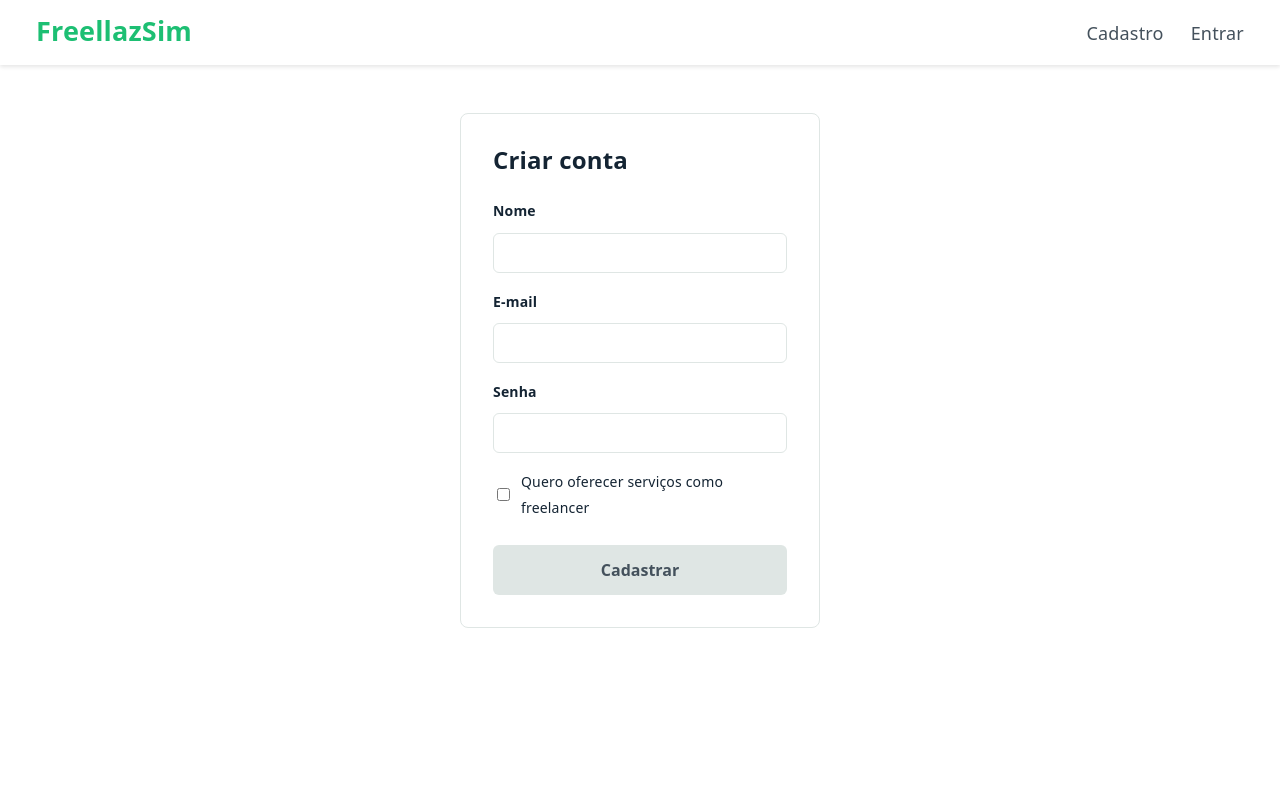
Cadastro › exibe mensagem de erro quando a senha é muito curta
In the password field labelled "Senha": (640, 433) x1=493 y1=413 x2=787 y2=453, type "123"
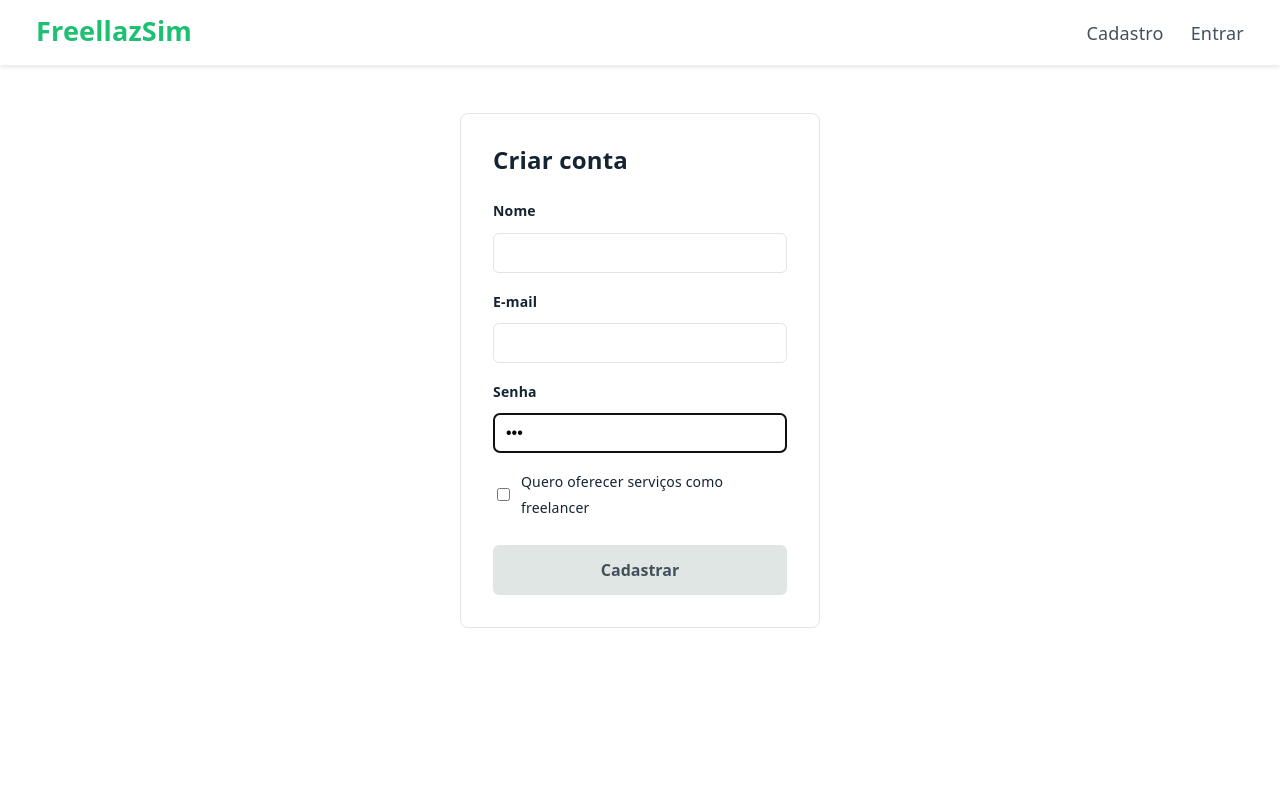
Press Tab
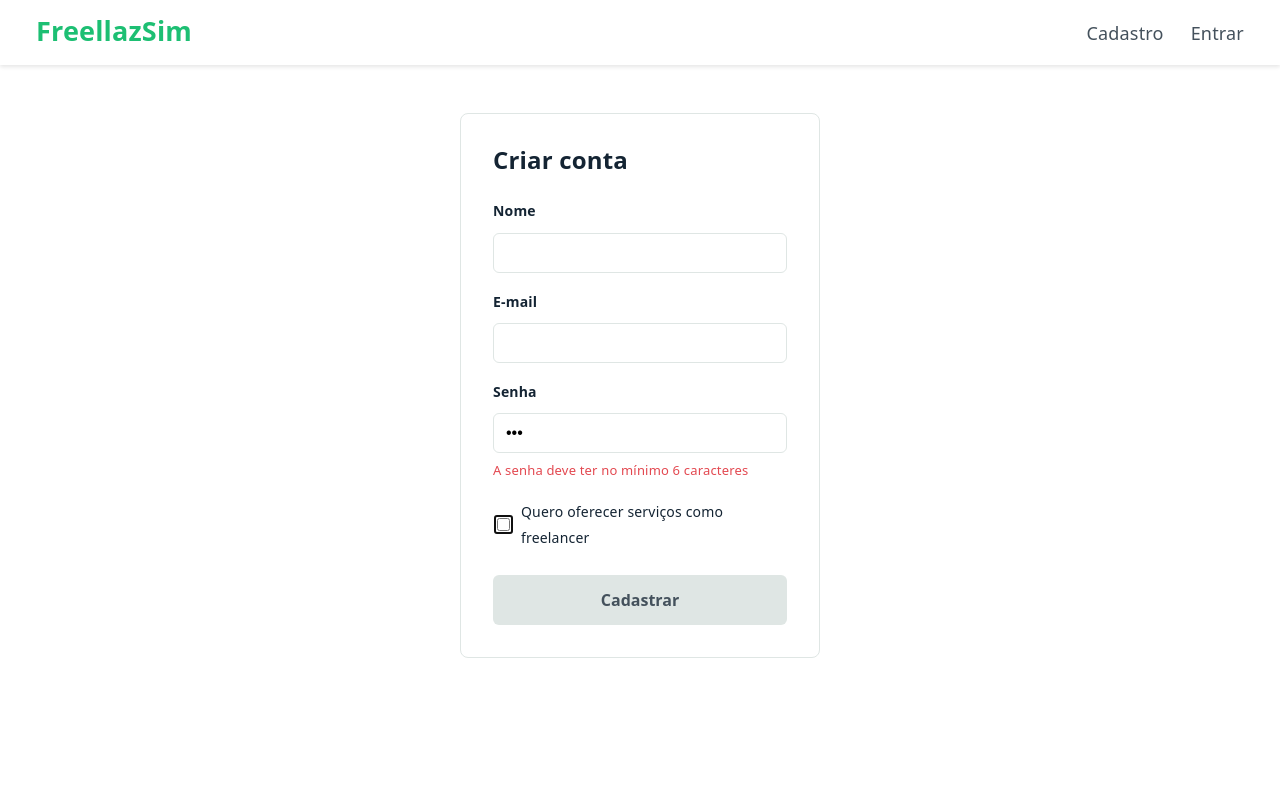
expect the text "A senha deve ter no mínimo 6 caracteres" is shown: met, box x1=493 y1=457 x2=787 y2=483
